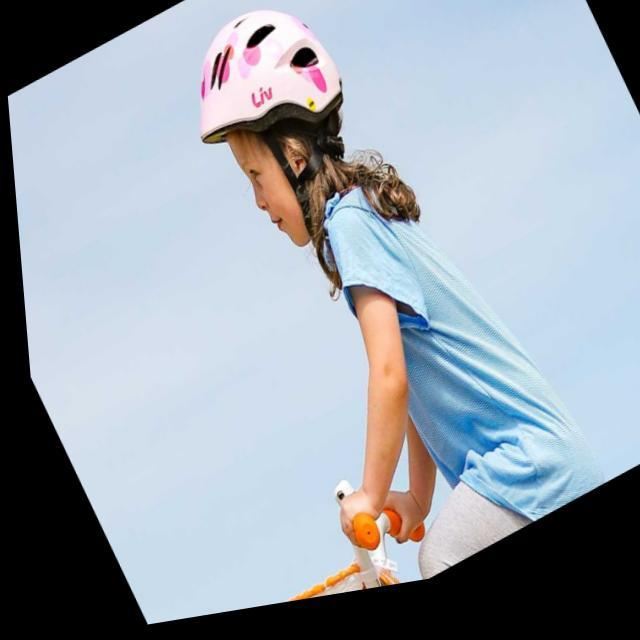Helmet: (194, 0, 380, 244)
